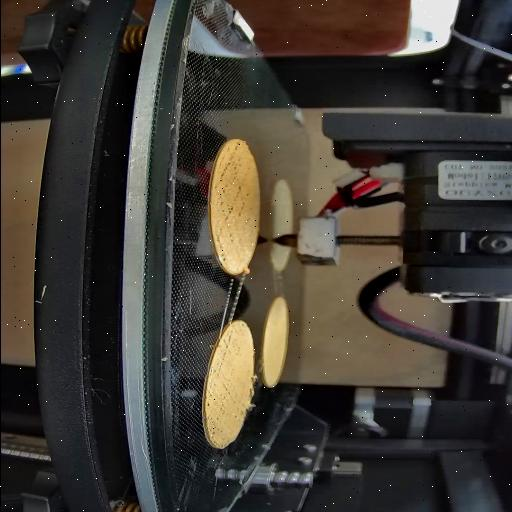under_extrusion: (215, 140, 246, 222), (207, 385, 241, 433), (214, 233, 240, 264), (218, 330, 236, 370)
